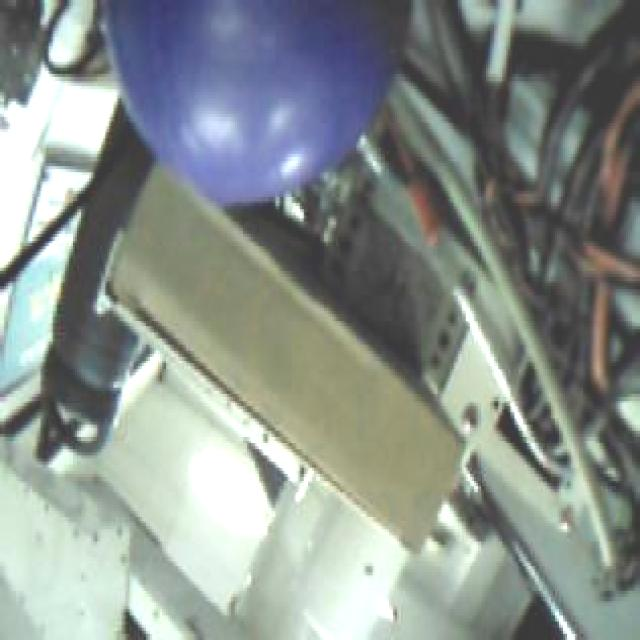BallPurple: (99, 0, 407, 203)
